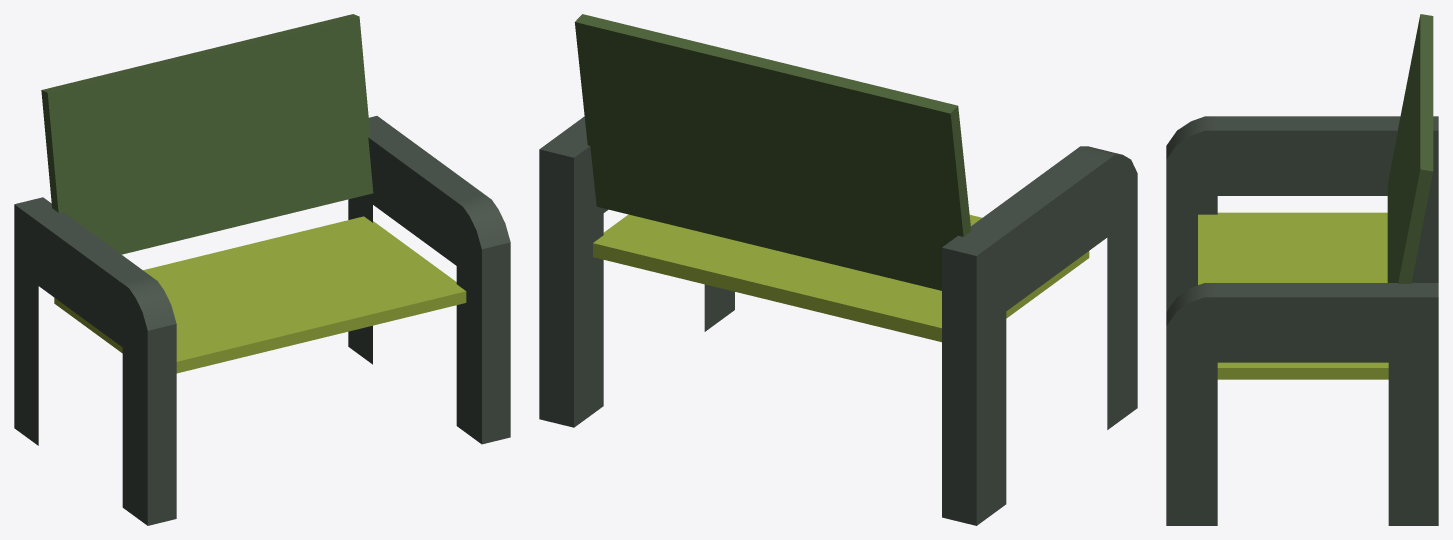
The model's file is Bench.gltf.
3 views of the same model, side by side, from view 1: azimuth 30°, elevation 25°; view 2: azimuth 150°, elevation 25°; view 3: azimuth 270°, elevation 25° (orthographic). The views are drawn at different scales.
Visible parts, largest first — view 1: pCube4, pCube3, pCube5, pCube2; view 2: pCube4, pCube5, pCube2, pCube3; view 3: pCube2, pCube5, pCube3, pCube4.
Part boxes in pixels (x1,y1,x2,y2): pCube4: [41, 14, 373, 254]; pCube3: [54, 216, 466, 373]; pCube5: [14, 197, 176, 525]; pCube2: [348, 116, 510, 444]; pCube4: [574, 14, 971, 290]; pCube5: [942, 146, 1137, 525]; pCube2: [539, 116, 734, 427]; pCube3: [593, 214, 1089, 342]; pCube2: [1166, 283, 1438, 525]; pCube5: [1166, 116, 1438, 311]; pCube3: [1198, 212, 1388, 379]; pCube4: [1387, 14, 1433, 283].
Bounding box in the file's own units: 0.1142 × 0.1011 × 0.0728.
